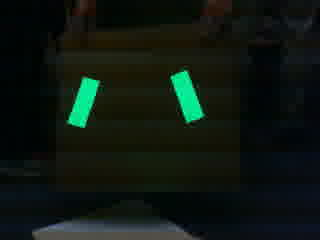target: (64, 66, 205, 128)
